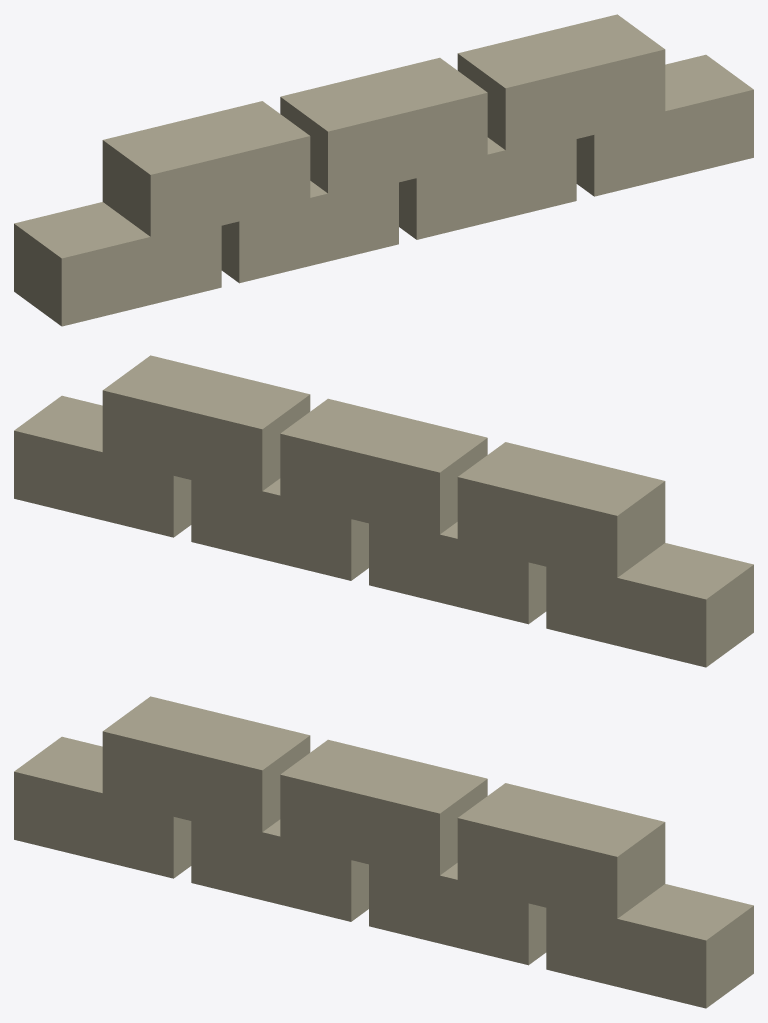
File: sandbag_barrier.gltf
3 renders of one model, top to bottom at view 1: azimuth 30°, elevation 25°; view 2: azimuth 150°, elevation 25°; view 3: azimuth 330°, elevation 25°, orthographic.
Bounding box in the file's own units: 2.34 × 0.42 × 0.28.
